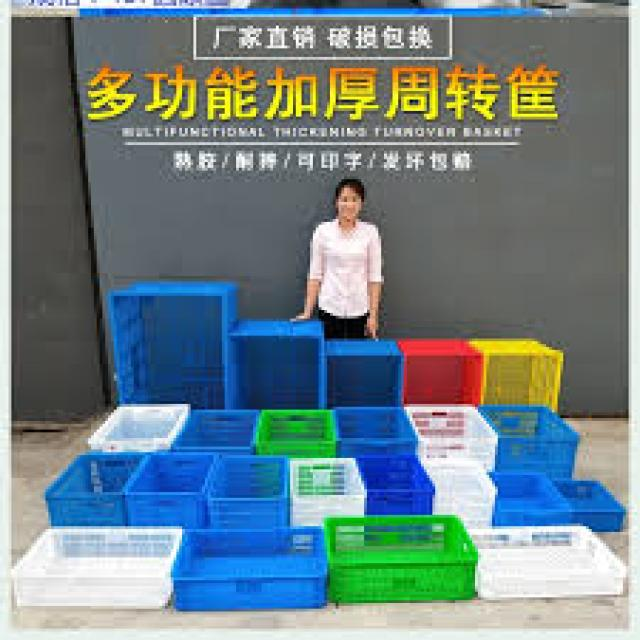basket: (108, 284, 239, 410), (327, 515, 482, 606), (14, 529, 185, 610), (173, 530, 328, 613), (472, 523, 630, 604), (400, 340, 566, 411), (407, 407, 501, 529), (489, 472, 631, 537), (230, 320, 328, 410), (45, 454, 147, 529), (481, 407, 580, 481), (124, 455, 216, 531), (207, 458, 291, 529), (326, 339, 406, 409), (290, 461, 367, 528), (88, 407, 191, 455), (358, 457, 439, 518), (335, 409, 419, 458), (255, 412, 339, 458), (174, 412, 259, 455)
